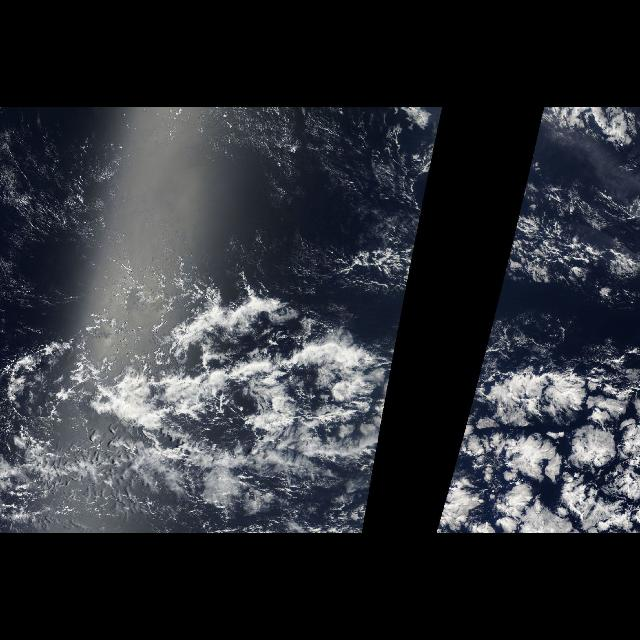Fish: (59, 277, 409, 508)
Flower: (458, 333, 640, 533)
Sugar: (1, 108, 346, 286)
